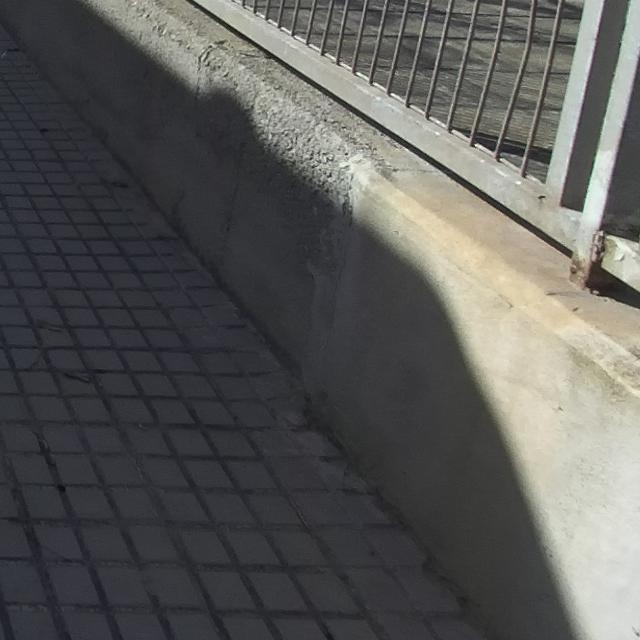calcada_quebrada: (25, 521, 74, 565), (14, 345, 47, 374)
